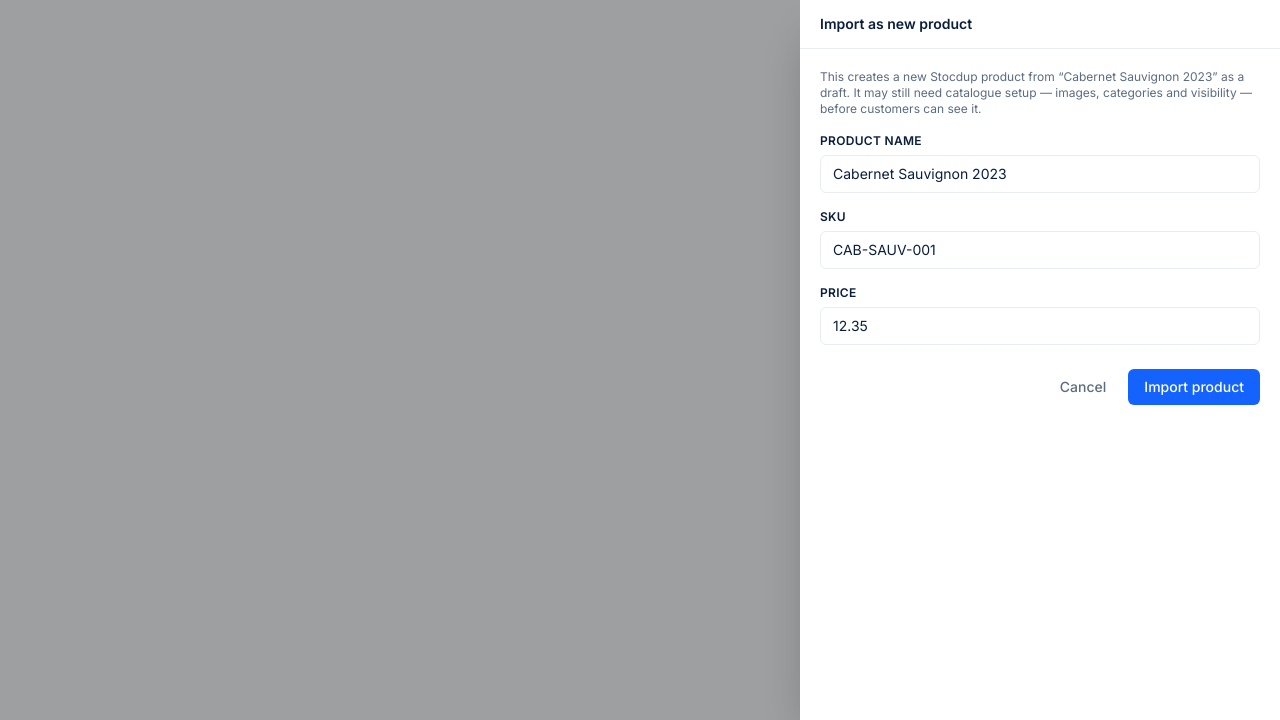
ImportProductDialog › shows an error and re-enables the form when import fails
Click the button "Import product" at [1194, 387], box x1=1128 y1=369 x2=1260 y2=405
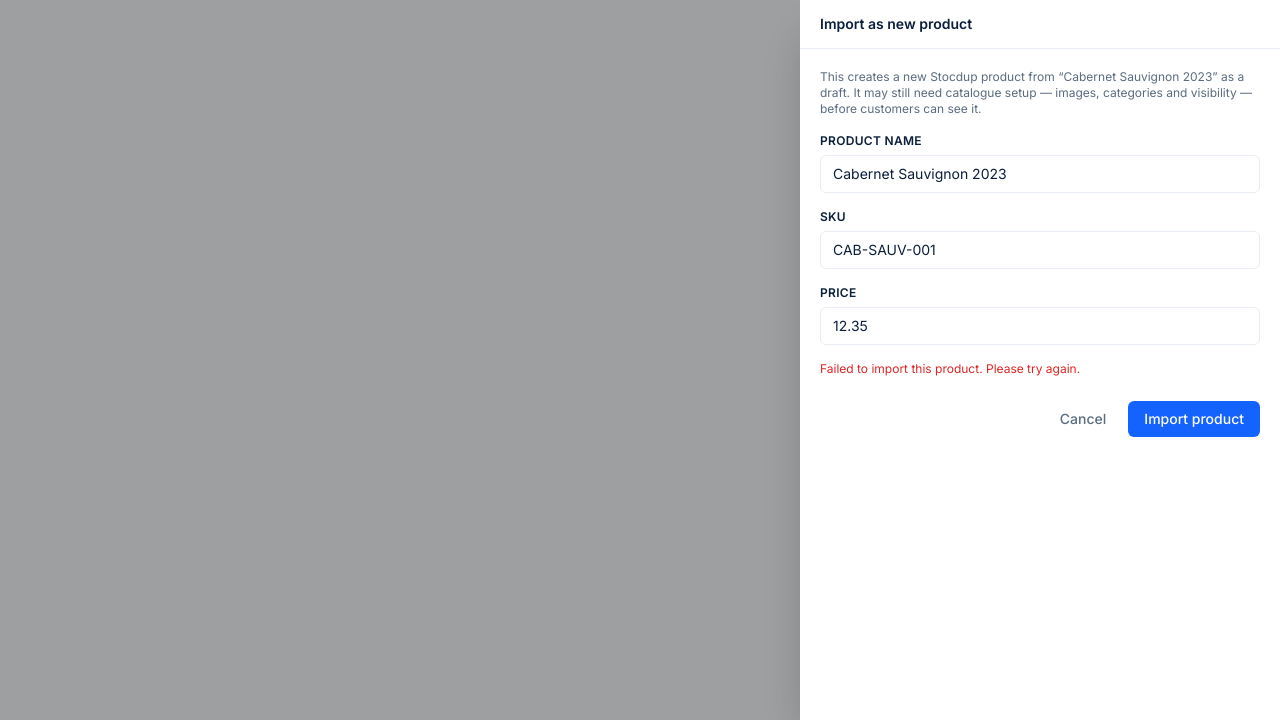
Expected: the button "Import product" is enabled, x1=1128 y1=401 x2=1260 y2=437
Expected: the text "Failed to import this product. Please try again." is shown, x1=820 y1=361 x2=1080 y2=376
